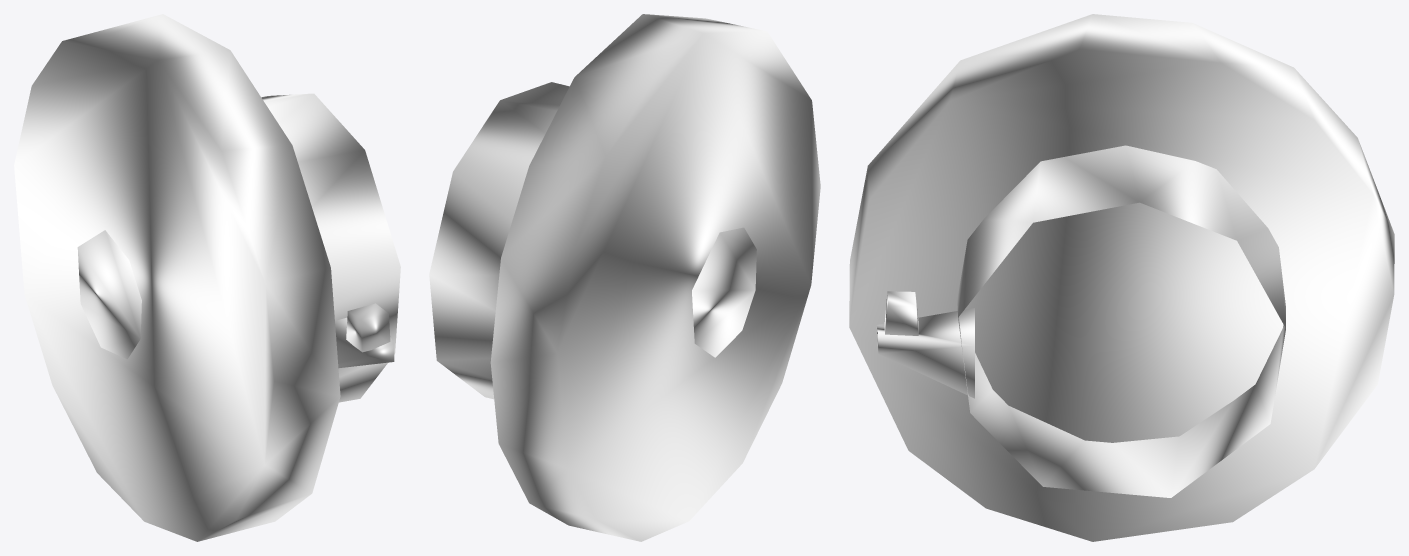
The picture shows the model from 3 angles, left to right: view 1: azimuth 30°, elevation 25°; view 2: azimuth 150°, elevation 25°; view 3: azimuth 270°, elevation 25°; orthographic projection. The views are drawn at different scales.
Bounding box in the file's own units: 0.1579 × 0.3344 × 0.3345.
Materials: 1 (1 with a texture image).
